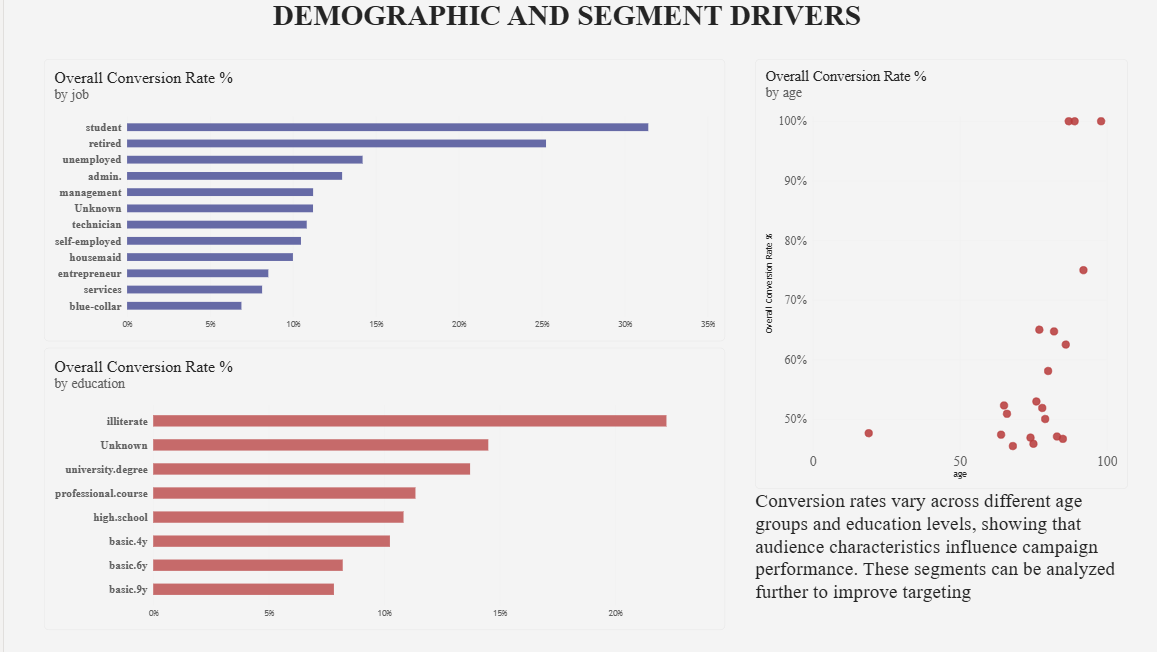

What the dashboard file says about the page in this screenshot:
{"tool":"powerbi","page":{"name":"Drivers","canvas":[1920,1080],"ordinal":2},"visuals":[{"type":"textbox","box":[442.5,0,1156.8,61.7],"z":0},{"type":"barChart","fields":{"Category":["cleaned_bank_marketing.job"],"Y":["channel_summary.Overall Conversion Rate %"]},"box":[65.9,98.8,1121.8,465.2],"z":1000},{"type":"barChart","fields":{"Category":["cleaned_bank_marketing.education"],"Y":["channel_summary.Overall Conversion Rate %"]},"box":[65.9,574.3,1121.8,465.2],"z":2000},{"type":"scatterChart","fields":{"X":["cleaned_bank_marketing.age"],"Y":["channel_summary.Overall Conversion Rate %"]},"box":[1237.1,98.8,613.4,708.1],"z":3000},{"type":"textbox","box":[1237.1,806.9,613,232],"z":4000}]}

Visuals, with their boxes in screenshot pixels (x1, y1, x2, y2), scaled from the page's 1920x1080 canvas onto the 1157x652 screenshot:
textbox: detection(267, 0, 964, 37)
barChart - cleaned_bank_marketing.job x channel_summary.Overall Conversion Rate %: detection(40, 60, 716, 340)
barChart - cleaned_bank_marketing.education x channel_summary.Overall Conversion Rate %: detection(40, 347, 716, 628)
scatterChart - cleaned_bank_marketing.age x channel_summary.Overall Conversion Rate %: detection(745, 60, 1115, 487)
textbox: detection(745, 487, 1115, 627)
